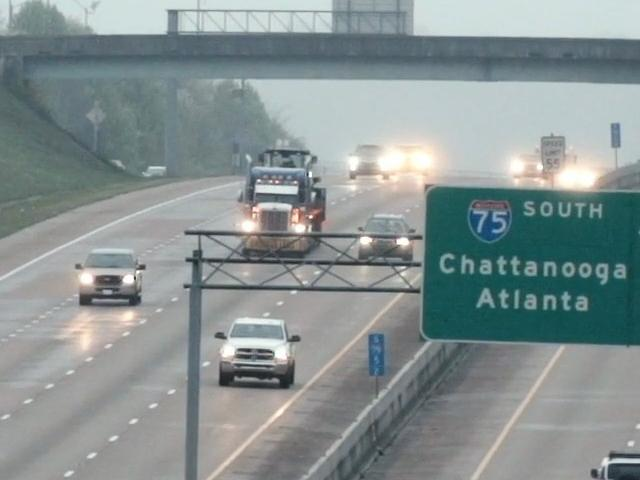car: (213, 312, 302, 388), (75, 244, 150, 307), (353, 212, 417, 265), (581, 446, 640, 480), (350, 143, 390, 180)
truck: (243, 147, 328, 260)
